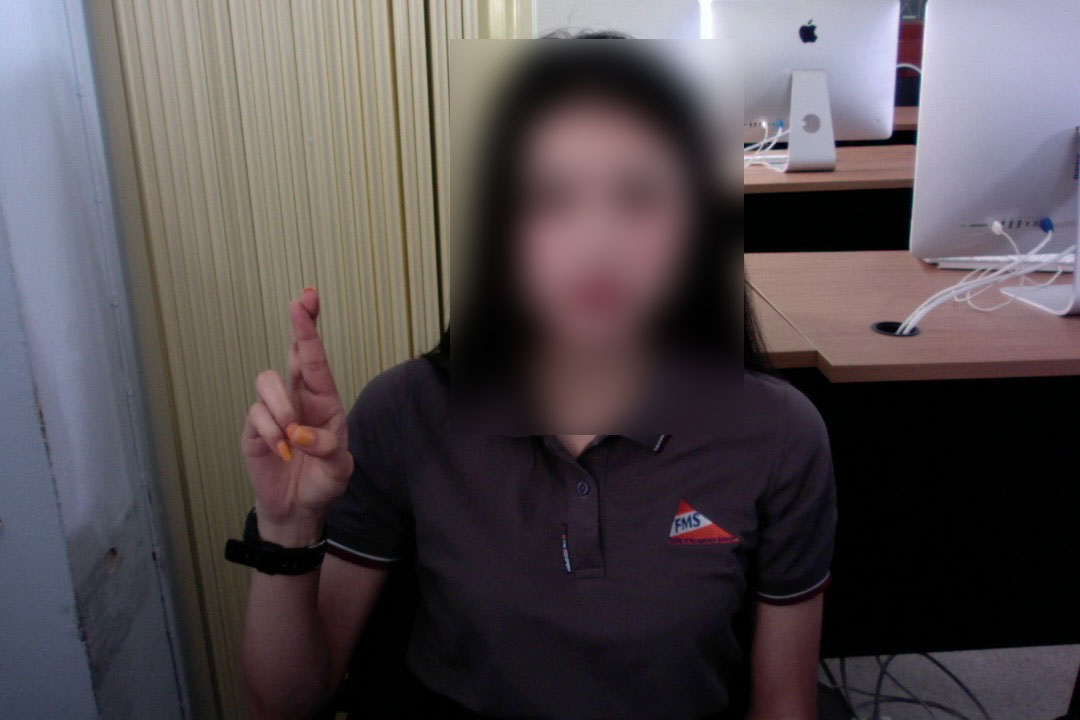rao: (234, 289, 371, 518)
